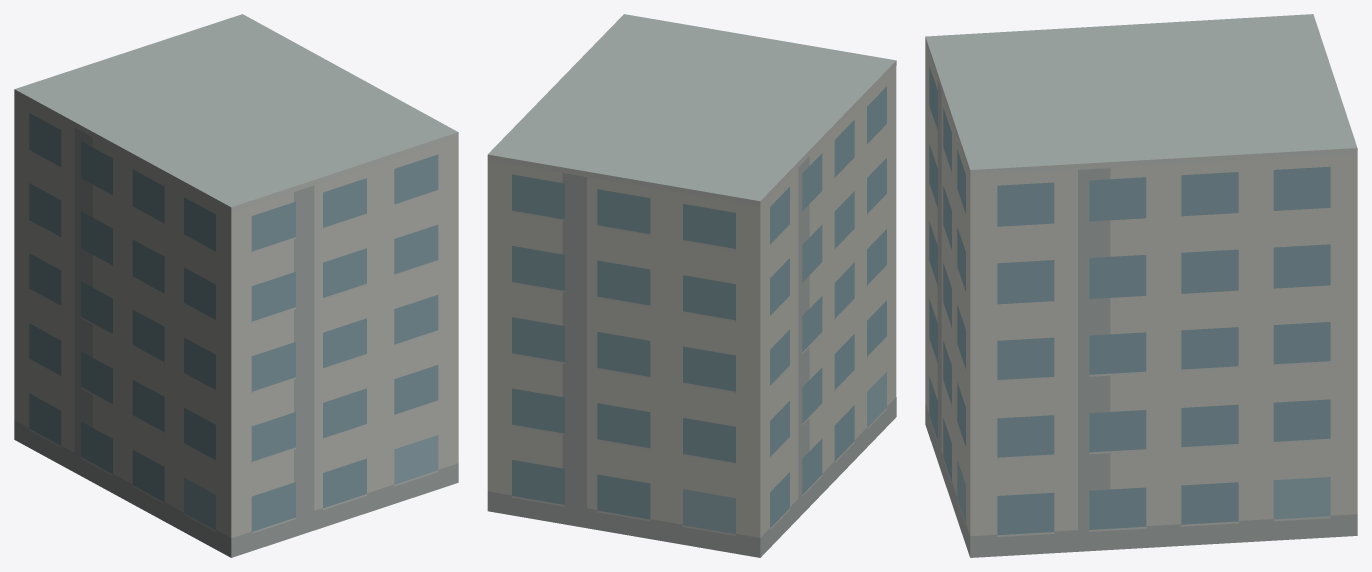
File: survey-upis-32574453.glb
3 views of the same model, side by side, from view 1: azimuth 30°, elevation 25°; view 2: azimuth 150°, elevation 25°; view 3: azimuth 270°, elevation 25° (orthographic). The views are drawn at different scales.
Visible parts, largest first — view 1: survey-upis-32574453.tmp; view 2: survey-upis-32574453.tmp; view 3: survey-upis-32574453.tmp.
Part boxes in pixels (<box>): survey-upis-32574453.tmp: <box>14,14,458,557</box>; survey-upis-32574453.tmp: <box>487,14,896,557</box>; survey-upis-32574453.tmp: <box>925,14,1357,557</box>.
Bounding box in the file's own units: 13.56 × 15.7 × 15.86.
